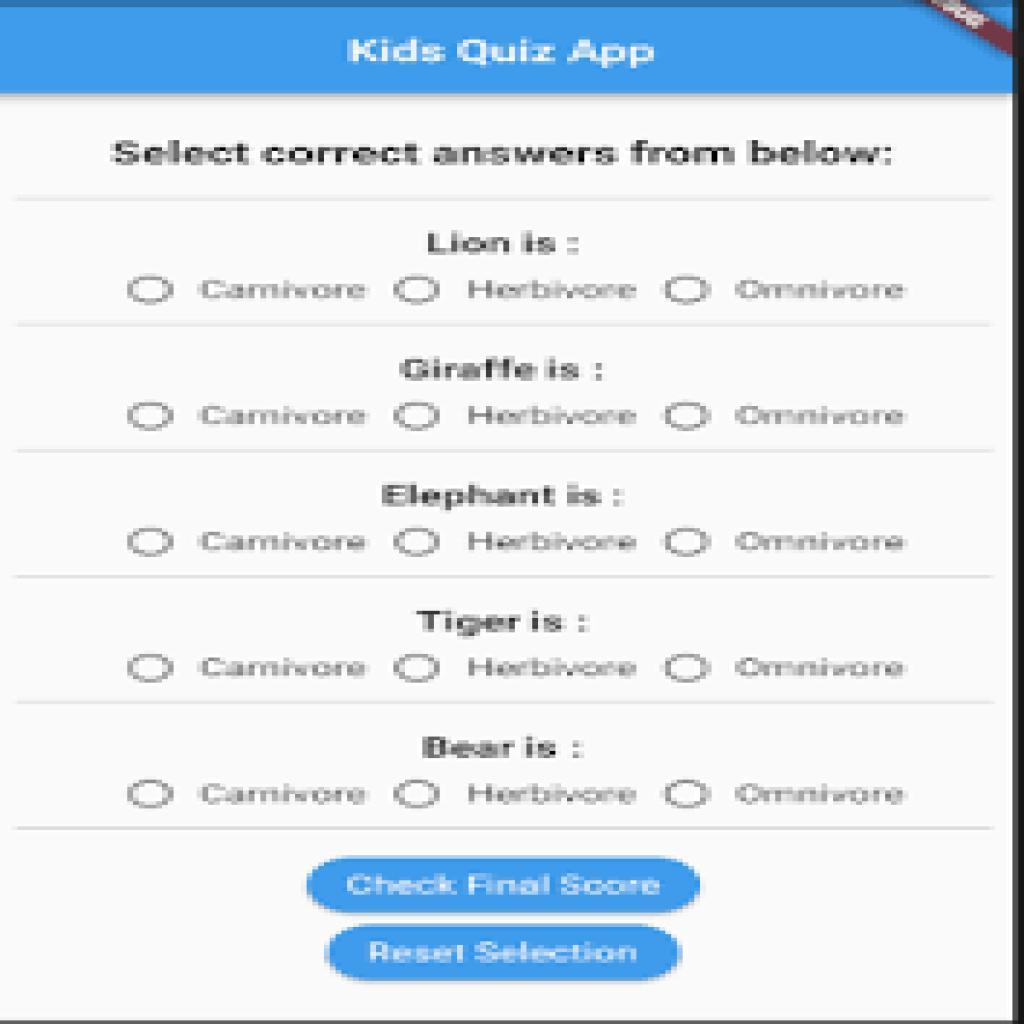button: (308, 857, 703, 914), (324, 923, 684, 982)
label: (115, 138, 896, 177), (373, 473, 632, 513), (394, 349, 606, 386), (726, 272, 912, 314), (421, 227, 609, 264), (195, 777, 370, 814), (735, 399, 914, 435), (199, 650, 372, 687), (466, 402, 643, 438), (419, 730, 587, 767), (734, 779, 911, 814), (418, 603, 591, 638), (734, 527, 907, 562), (464, 652, 641, 686), (735, 654, 909, 688), (199, 402, 377, 435), (202, 526, 369, 561), (464, 777, 639, 810), (464, 525, 643, 557), (468, 275, 645, 305), (197, 278, 370, 307)
radio: (652, 270, 718, 312), (119, 276, 183, 313), (124, 397, 183, 437), (391, 399, 442, 442), (392, 273, 447, 312), (121, 778, 177, 816), (663, 401, 718, 439), (127, 652, 183, 688), (387, 654, 445, 688), (663, 647, 715, 684), (395, 774, 447, 811), (129, 526, 182, 562), (662, 780, 718, 814), (389, 527, 444, 559), (666, 525, 714, 558)
